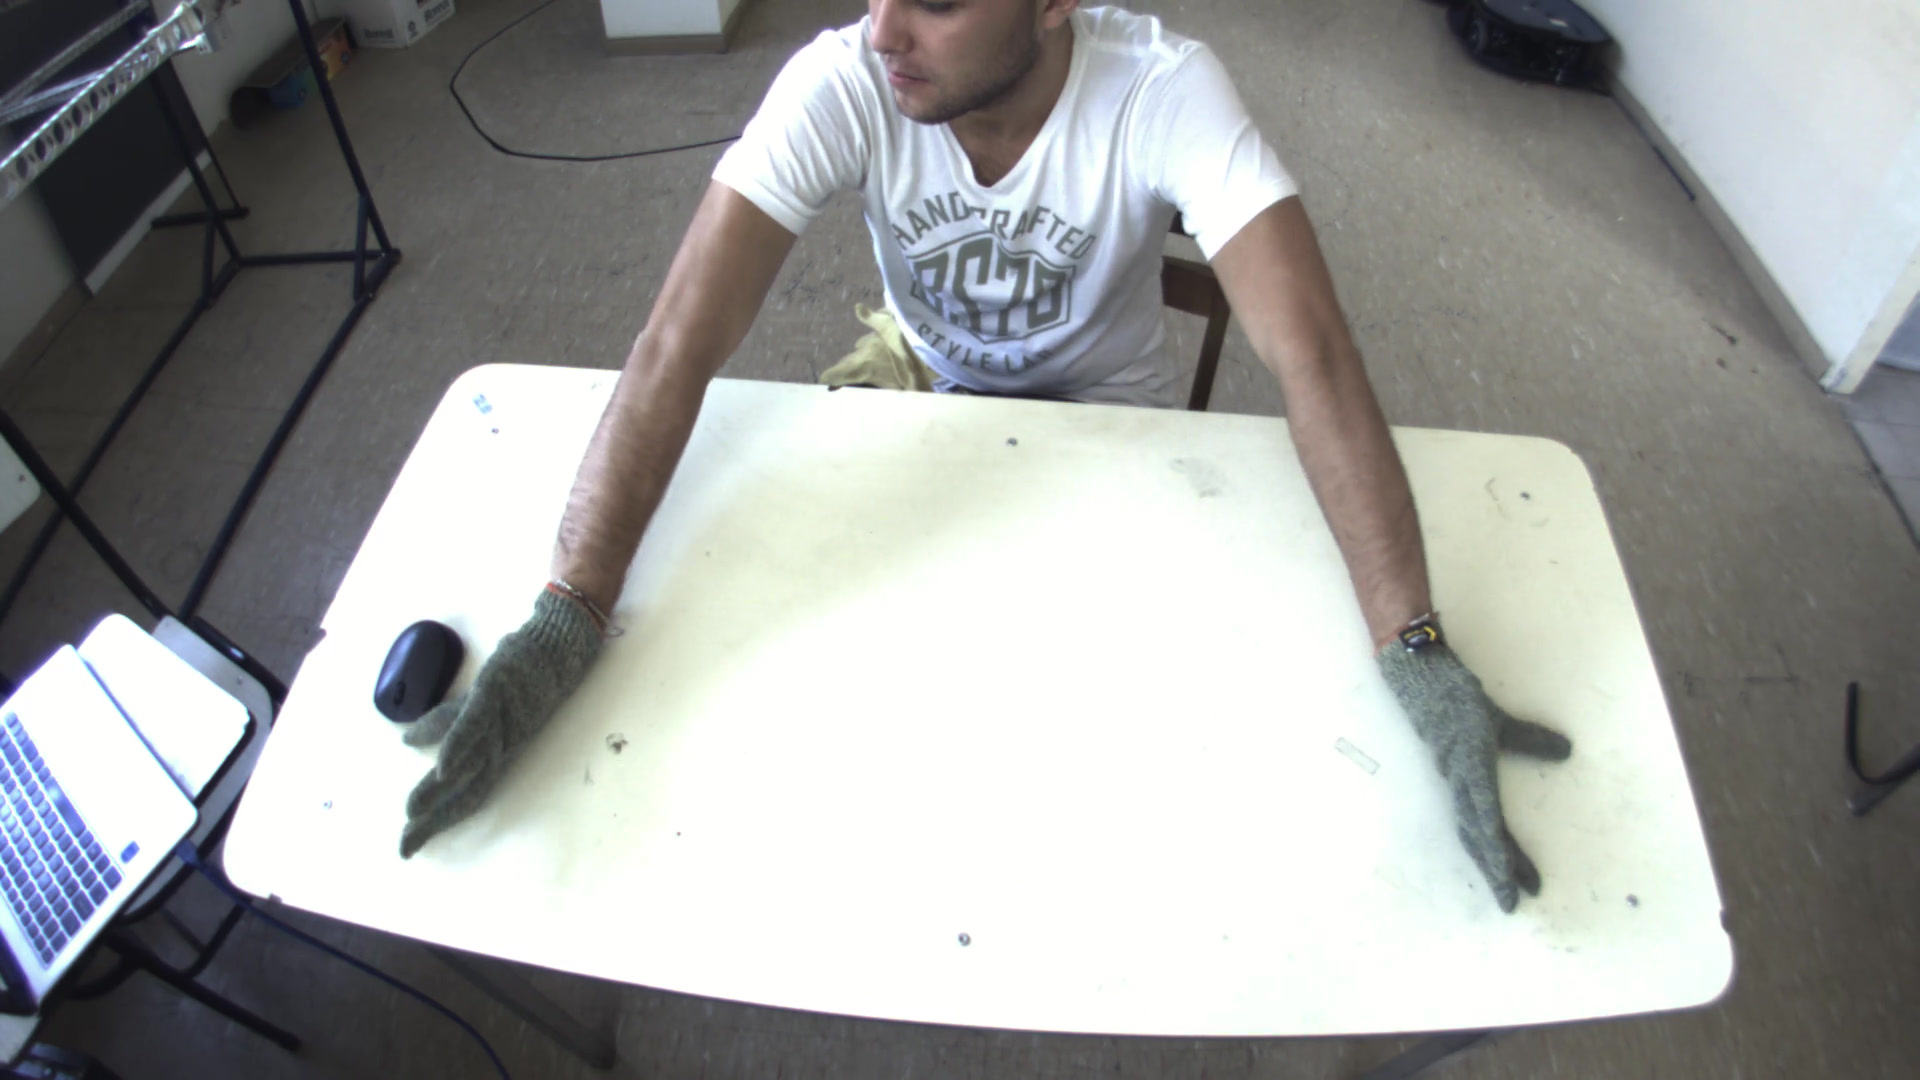hand: (367, 585, 620, 860), (1385, 615, 1585, 915)
